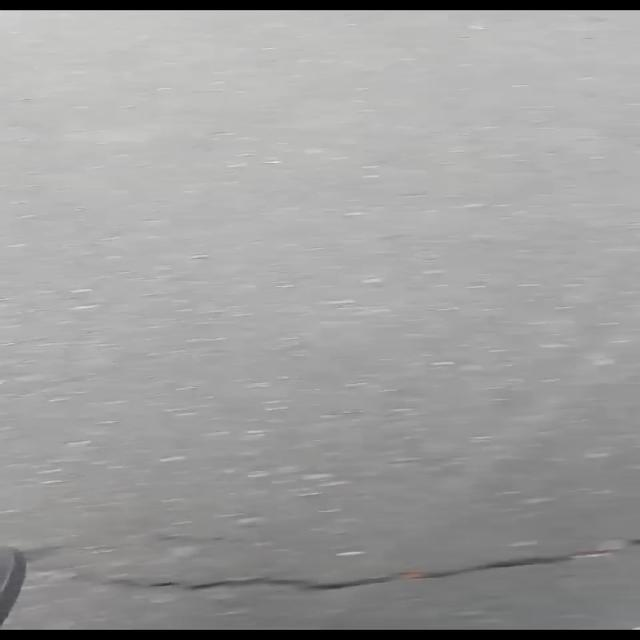Melintang: (59, 529, 640, 611)
